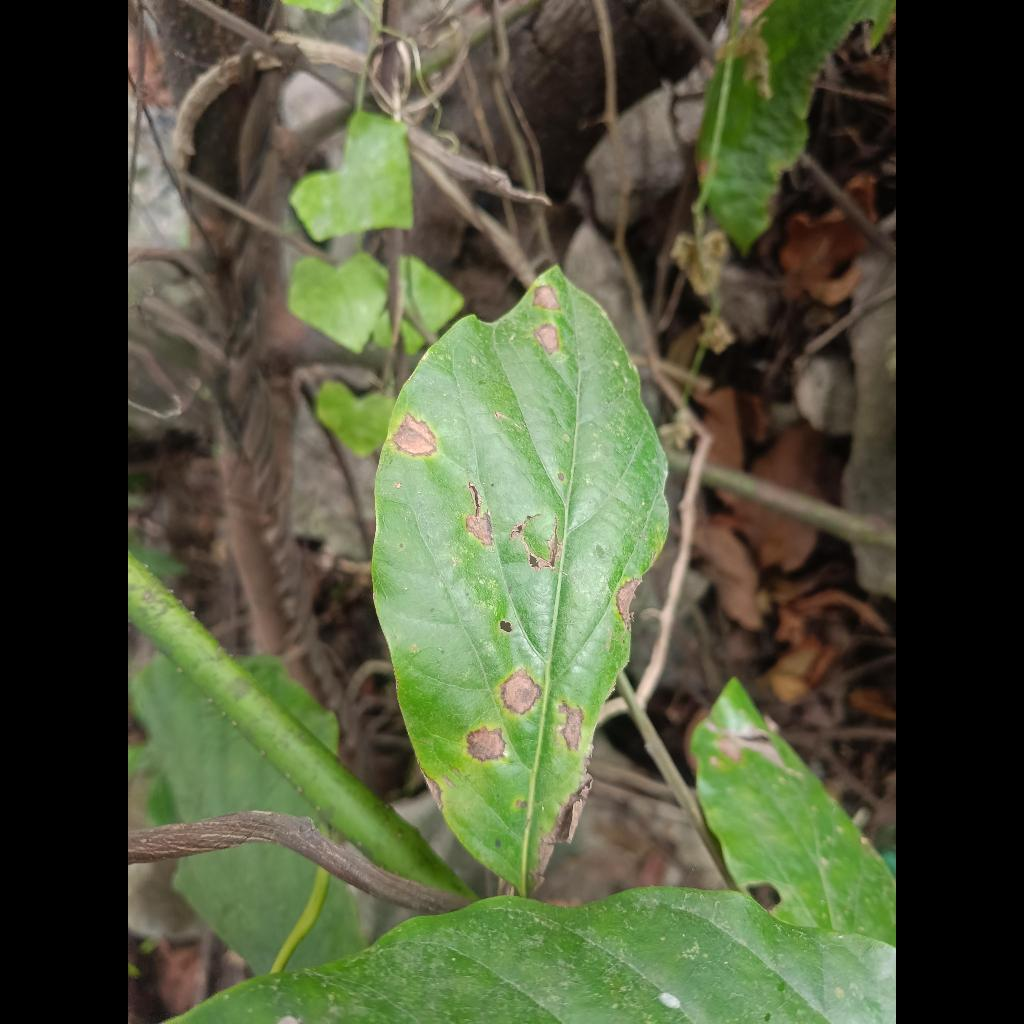Anthracnose: (372, 268, 668, 896)
